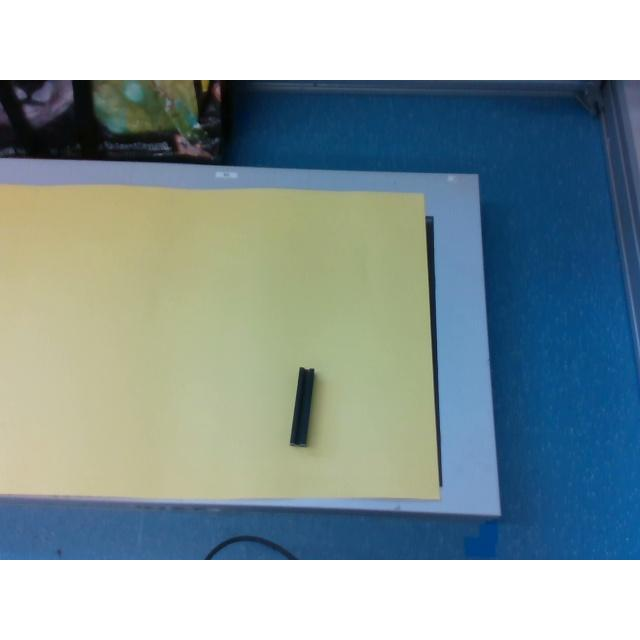F20_20_B: (290, 368, 314, 444)
